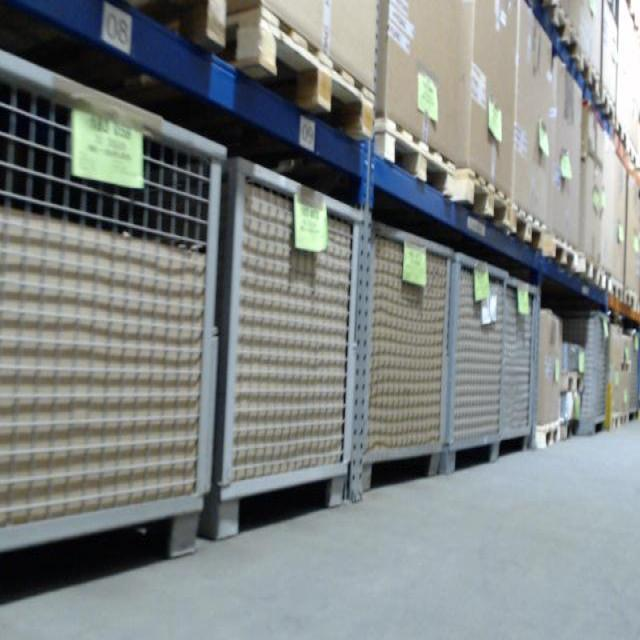pallet: (228, 6, 376, 149), (371, 114, 459, 201), (113, 2, 228, 53), (463, 165, 513, 237), (524, 3, 577, 58), (515, 203, 546, 256), (545, 230, 581, 275), (582, 250, 605, 290)
stillage: (1, 28, 241, 603), (196, 123, 370, 546), (349, 200, 456, 498), (436, 237, 511, 474), (495, 263, 543, 465), (546, 302, 607, 436), (630, 325, 639, 423)
